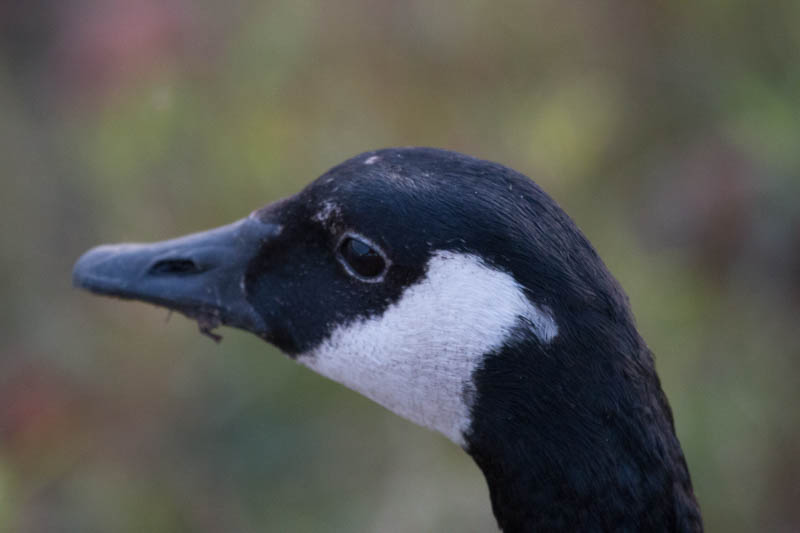goose-head: (70, 149, 610, 457)
